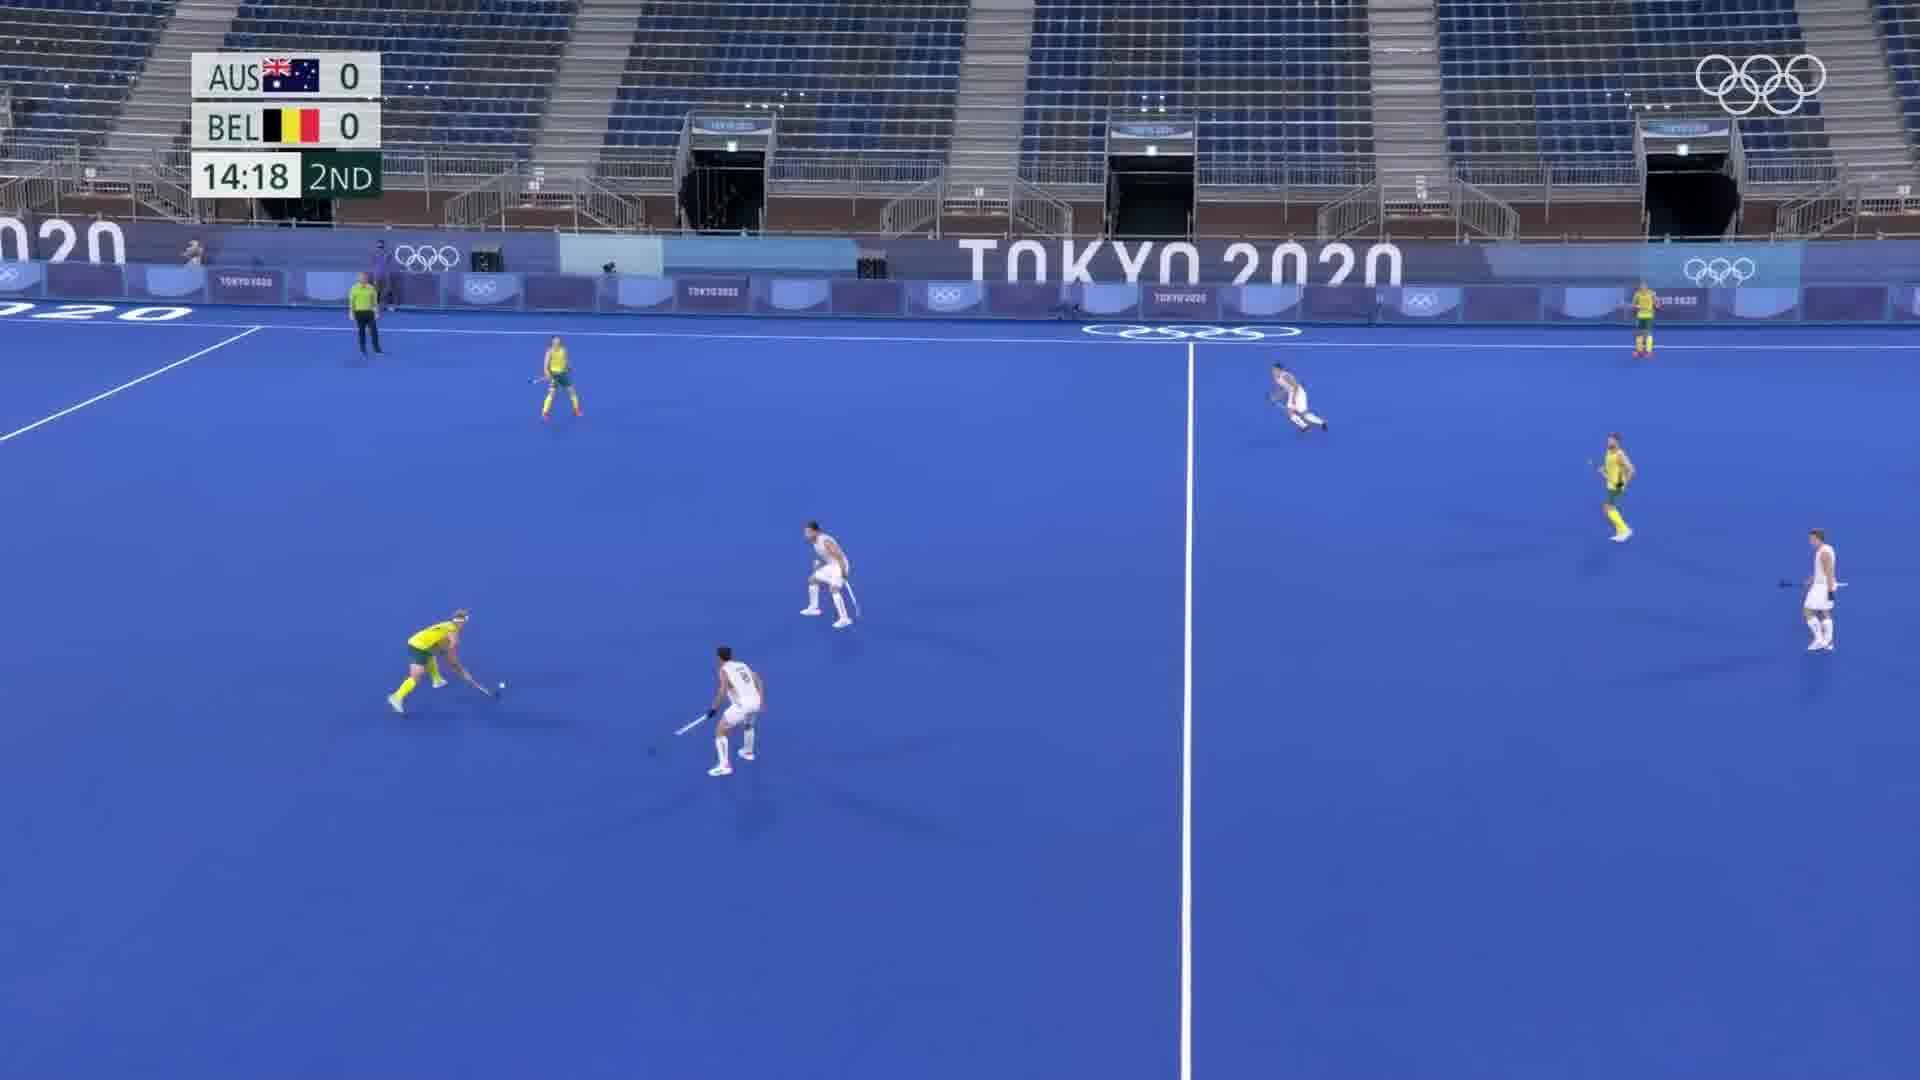ball: (494, 677, 514, 696)
